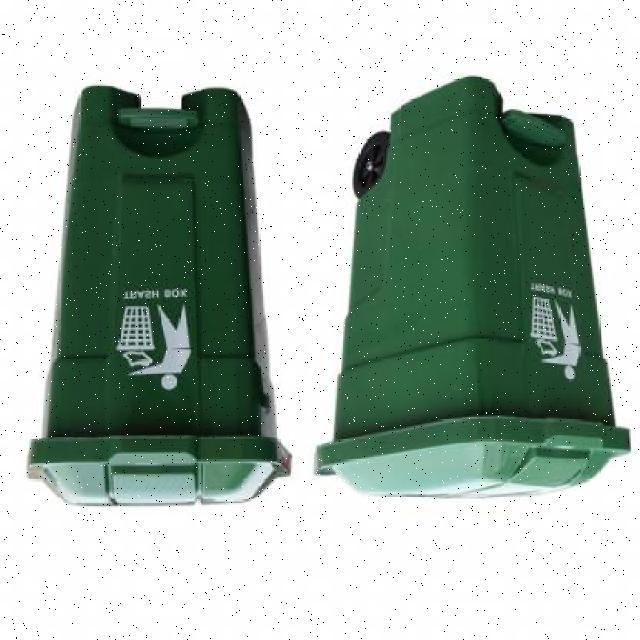garbage container: (300, 65, 637, 511), (20, 65, 311, 521)
